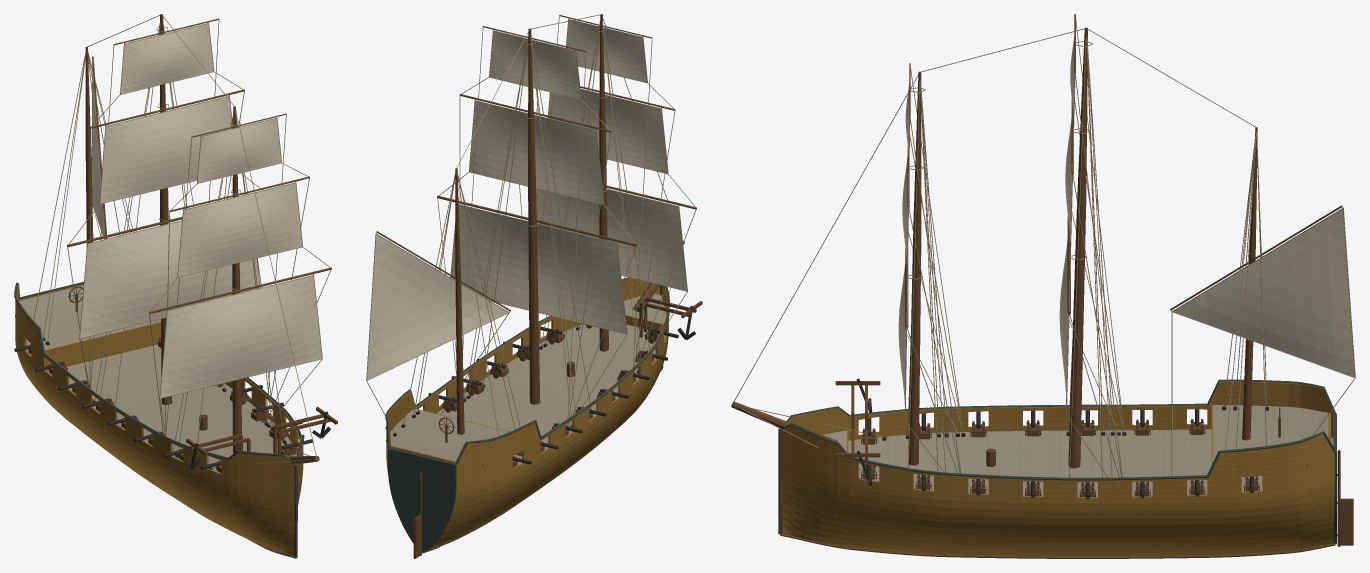
3 views of the same model, side by side, from view 1: azimuth 30°, elevation 25°; view 2: azimuth 150°, elevation 25°; view 3: azimuth 270°, elevation 25° (orthographic). The views are drawn at different scales.
Visible parts, largest first — view 1: lod1_hull_shell_starboard, lod1_fore_square_00, lod1_main_square_00, lod1_main_deck, lod1_main_square_01, lod1_fore_square_01, lod1_main_square_02, lod1_fore_square_02, lod1_castle_deck_0, lod1_castle_bulkhead_0_1, lod1_hull_shell_port, lod1_mizzen (+7 smaller); view 2: lod1_main_square_00, lod1_hull_shell_starboard, lod1_main_deck, lod1_mizzen_lateen_00, lod1_main_square_01, lod1_fore_square_00, lod1_fore_square_01, lod1_stern_closure, lod1_main_square_02, lod1_castle_deck_0, lod1_fore_square_02, lod1_main (+16 smaller); view 3: lod1_hull_shell_port, lod1_mizzen_lateen_00, lod1_main_deck, lod1_hull_shell_starboard, lod1_main, lod1_castle_deck_0, lod1_fore, lod1_gunwale_port, lod1_mizzen, lod1_gunwale_starboard, lod1_keel, lod1_main_square_00.
Part boxes in pixels (x1,y1,x2,y2): lod1_hull_shell_starboard: (15,283,294,555); lod1_fore_square_00: (160,276,321,397); lod1_main_square_00: (80,221,259,337); lod1_main_deck: (26,339,292,472); lod1_main_square_01: (100,96,232,203); lod1_fore_square_01: (178,183,302,276); lod1_main_square_02: (120,23,213,93); lod1_fore_square_02: (197,118,281,182); lod1_castle_deck_0: (19,285,160,349); lod1_castle_bulkhead_0_1: (45,322,160,371); lod1_hull_shell_port: (225,378,303,505); lod1_mizzen: (85,47,93,247); lod1_main_square_00: (451,205,626,333); lod1_hull_shell_starboard: (426,285,668,550); lod1_main_deck: (437,324,665,466); lod1_mizzen_lateen_00: (367,234,508,379); lod1_main_square_01: (469,101,603,204); lod1_fore_square_00: (536,188,687,290); lod1_fore_square_01: (548,89,667,173); lod1_stern_closure: (388,448,456,552); lod1_main_square_02: (489,31,580,98); lod1_castle_deck_0: (390,409,508,460); lod1_fore_square_02: (566,19,647,82); lod1_main: (528,28,540,404); lod1_hull_shell_port: (781,425,1334,557); lod1_mizzen_lateen_00: (1173,209,1354,377); lod1_main_deck: (848,429,1333,496); lod1_hull_shell_starboard: (787,381,1334,440); lod1_main: (1068,27,1087,468); lod1_castle_deck_0: (1213,405,1328,461); lod1_fore: (908,71,921,465); lod1_gunwale_port: (780,423,1336,480); lod1_mizzen: (1242,127,1257,440); lod1_gunwale_starboard: (786,379,1336,421); lod1_keel: (780,533,1335,558); lod1_main_square_00: (1059,240,1068,398).
Size of the model in its own units: 13.03 by 28.52 by 30.4.
7 materials, 7 textured.
